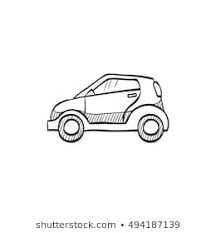car: (38, 62, 173, 152)
